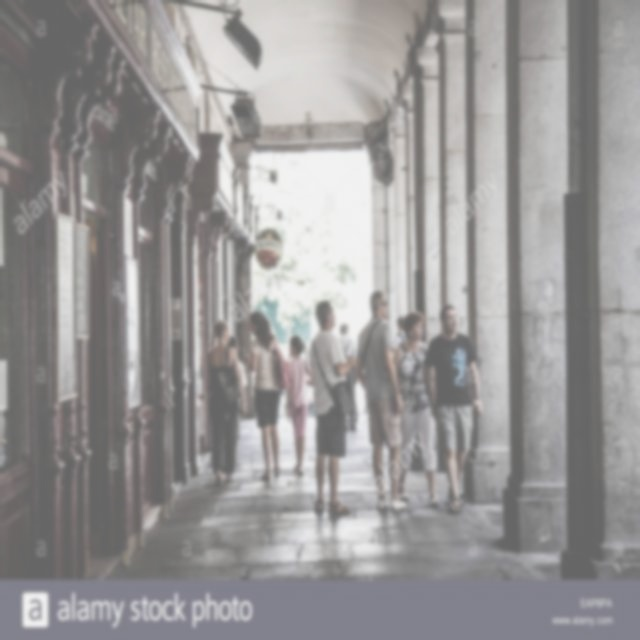pessoa: (422, 302, 484, 516), (356, 289, 408, 514), (308, 298, 359, 518), (389, 310, 441, 508), (244, 309, 292, 482), (204, 318, 246, 484), (286, 334, 316, 477), (217, 334, 247, 474), (338, 322, 358, 432), (392, 314, 408, 349)
